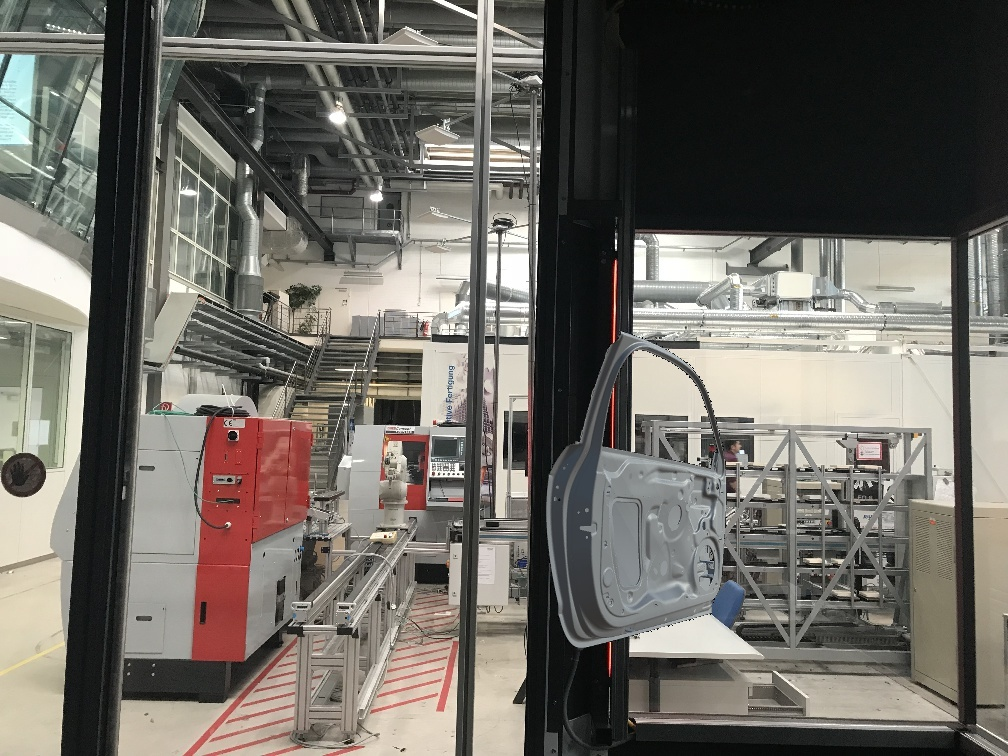car_door: (546, 330, 726, 647)
